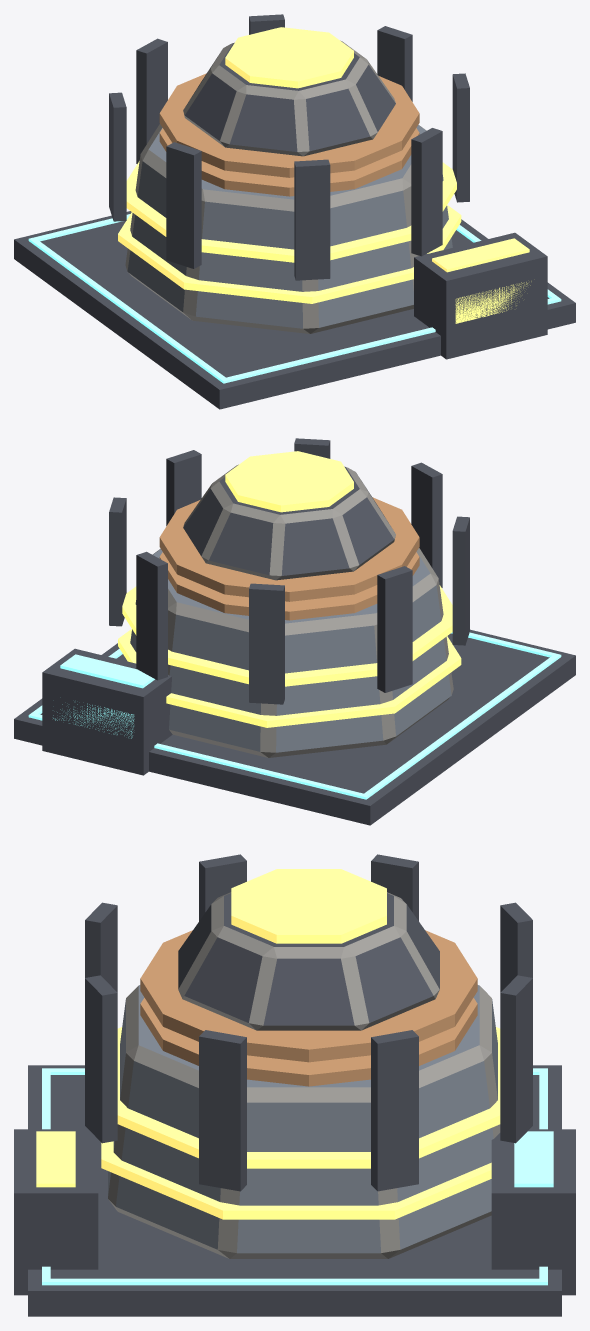
The model's file is fornalha_ht_sem_textura.glb.
3 renders of one model, top to bottom at view 1: azimuth 30°, elevation 25°; view 2: azimuth 150°, elevation 25°; view 3: azimuth 270°, elevation 25°, orthographic. The views are drawn at different scales.
Visible parts, largest first — view 1: fornalha_ht; view 2: fornalha_ht; view 3: fornalha_ht.
Boxes of the visible parts, x1,y1,x2,y2 form: fornalha_ht: [14, 14, 575, 409]; fornalha_ht: [14, 438, 575, 825]; fornalha_ht: [14, 854, 575, 1316].
Size of the model in its own units: 1.9 by 1.18 by 2.
